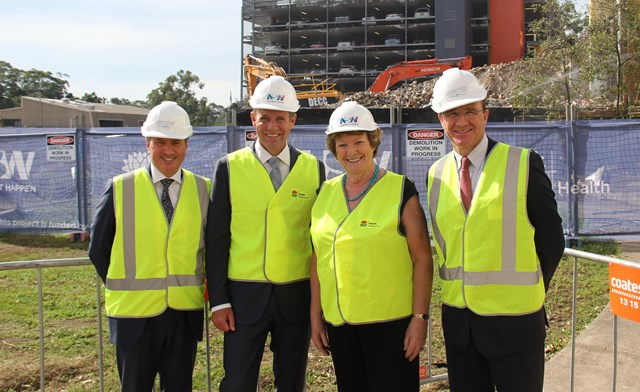Helmet: (428, 65, 494, 152), (323, 96, 386, 180), (245, 72, 303, 157), (136, 98, 194, 176)
Reflective vest: (425, 140, 549, 322), (308, 165, 415, 328), (104, 167, 214, 319), (220, 146, 322, 291)
